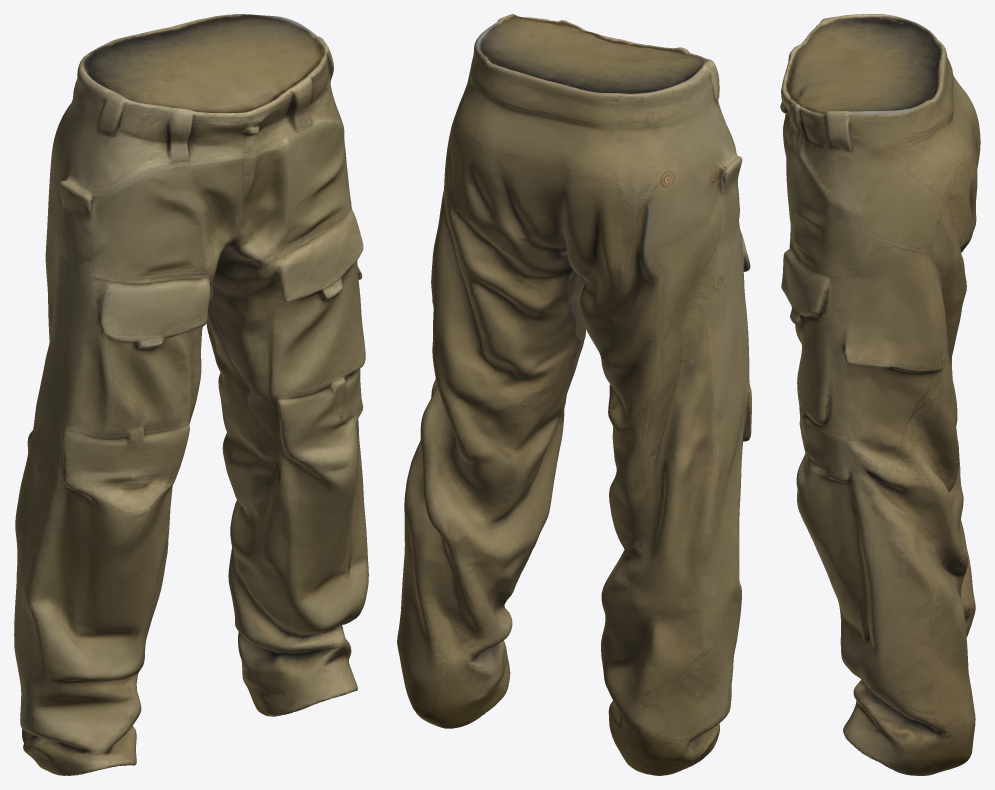
The model's file is trench_wear.glb.
The picture shows the model from 3 angles, left to right: view 1: azimuth 30°, elevation 25°; view 2: azimuth 150°, elevation 25°; view 3: azimuth 270°, elevation 25°; orthographic projection. The views are drawn at different scales.
Parts seen in each view (by area): view 1: temp_mesh.ply_1; view 2: temp_mesh.ply_1; view 3: temp_mesh.ply_1.
Boxes of the visible parts, x1=… form: temp_mesh.ply_1: x1=14, y1=14, x2=368, y2=775; temp_mesh.ply_1: x1=397, y1=14, x2=751, y2=775; temp_mesh.ply_1: x1=780, y1=14, x2=980, y2=775.
Bounding box in the file's own units: 0.9868 × 1.97 × 0.546.
Materials: 1 (1 with a texture image).
